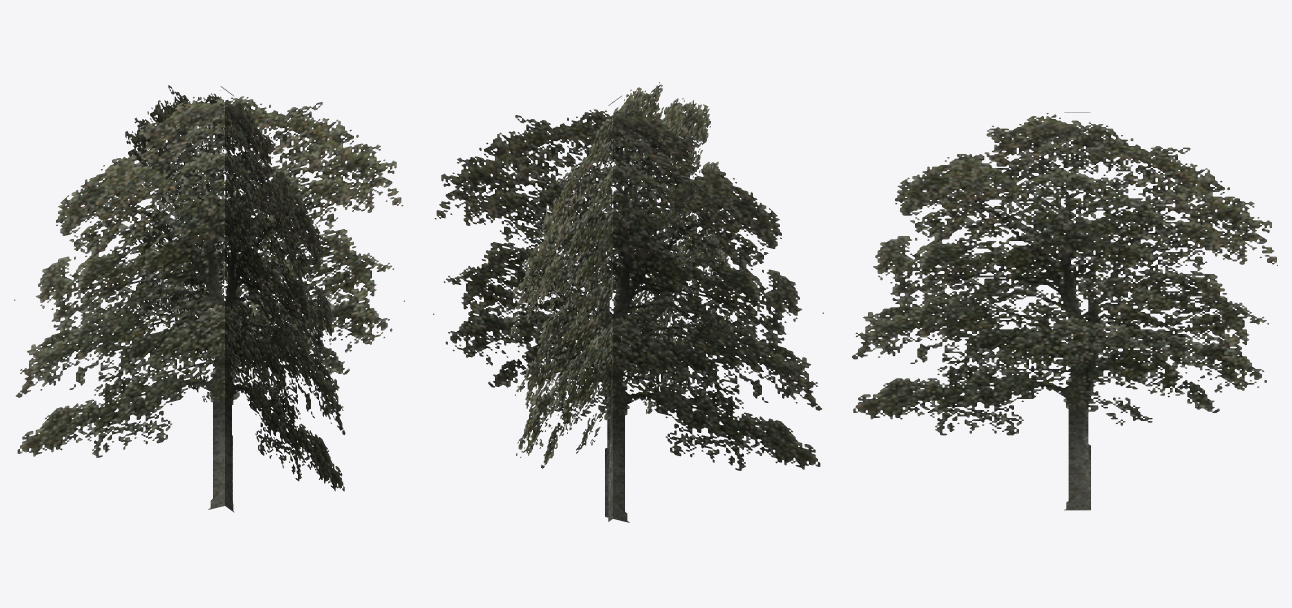
The model's file is Tree7.fbx.
The picture shows the model from 3 angles, left to right: view 1: azimuth 30°, elevation 25°; view 2: azimuth 150°, elevation 25°; view 3: azimuth 270°, elevation 25°; orthographic projection. The views are drawn at different scales.
Visible parts, largest first — view 1: Tree7; view 2: Tree7; view 3: Tree7.
Part boxes in pixels (box(x1,y1,x2,y2)): Tree7: box(14, 85, 404, 512); Tree7: box(433, 82, 823, 522); Tree7: box(852, 112, 1277, 510).
Size of the model in its own units: 4934 by 5032 by 4881.
